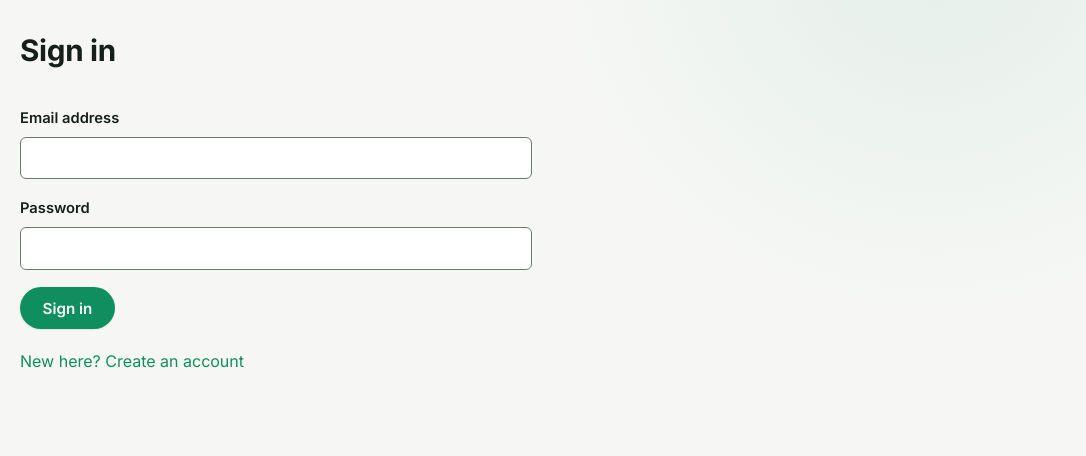
Test: LoginForm › renders the SAME generic error copy for wrong password -- never a distinguishing signal
In the field labelled "Email address": (276, 158) [20,136,532,179], type "user@example.com"
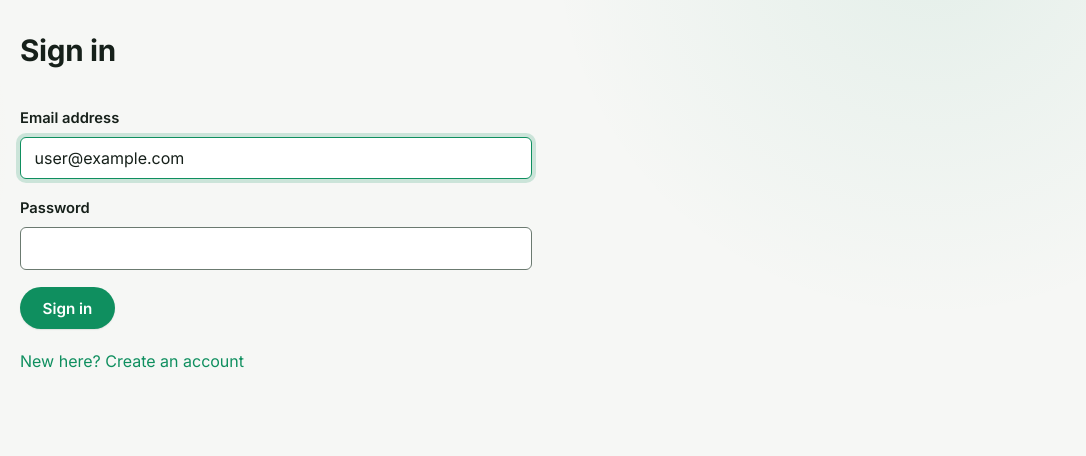
In the password field labelled "Password": (276, 248) [20,227,532,270], type "whatever"
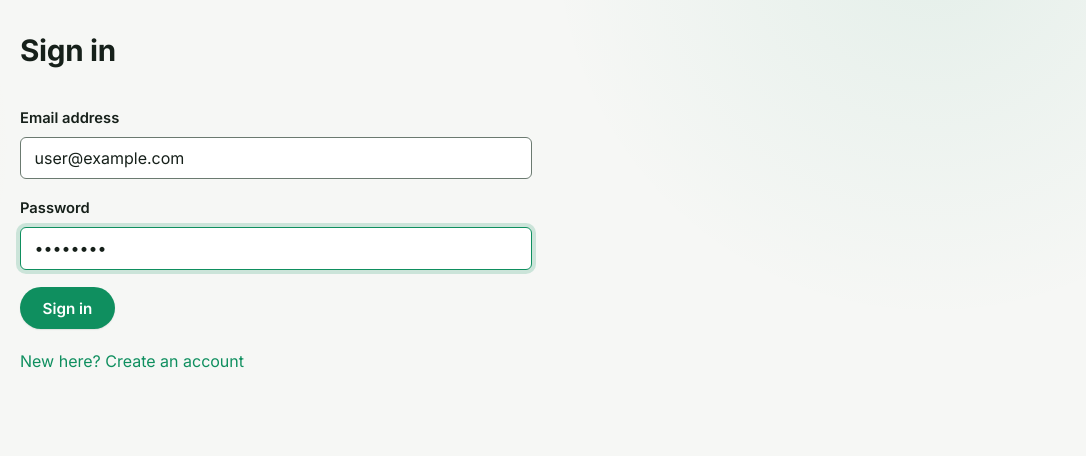
Click the button "Sign in": (67, 308) [20,287,115,329]
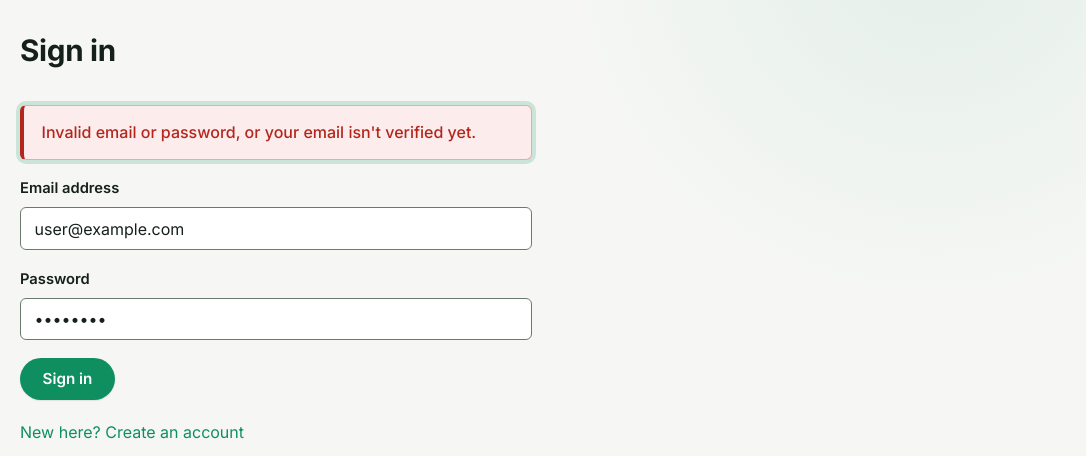
Now the message reads "Invalid email or password, or your email isn't verified yet.", box [42,122,476,142]
